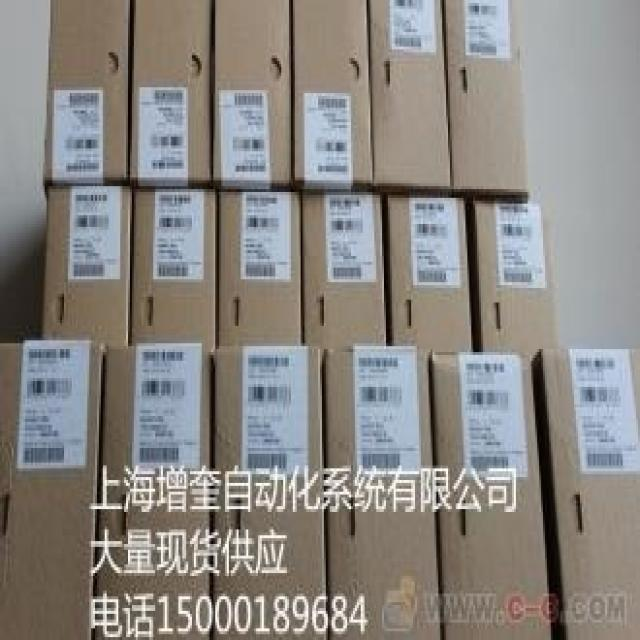box: (429, 349, 553, 640), (93, 343, 211, 640), (322, 346, 440, 640), (211, 346, 328, 640), (533, 346, 640, 640), (0, 340, 103, 640), (43, 0, 134, 198), (444, 0, 528, 198), (368, 0, 452, 195), (128, 0, 211, 186), (291, 0, 372, 189), (211, 0, 291, 186), (41, 186, 132, 343), (386, 195, 471, 361), (473, 198, 559, 361), (130, 189, 215, 343), (303, 189, 386, 346), (219, 189, 301, 346)
